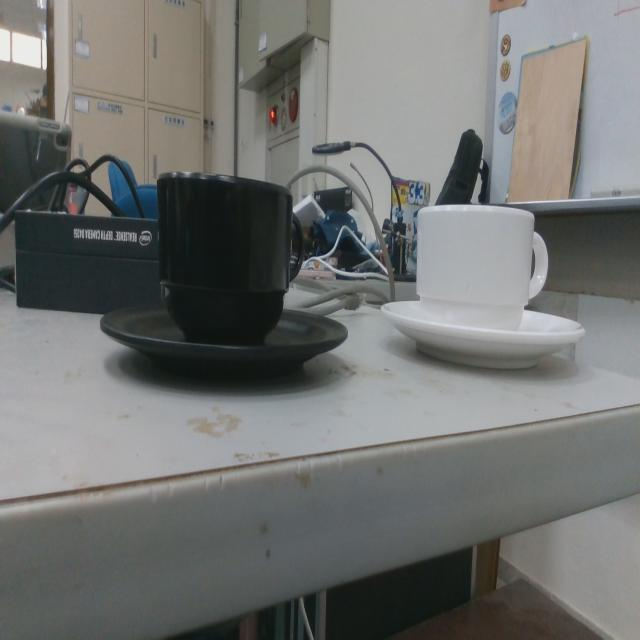black: (98, 167, 351, 389)
white: (379, 198, 587, 374)
